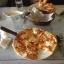pizza: (12, 28, 58, 60)
